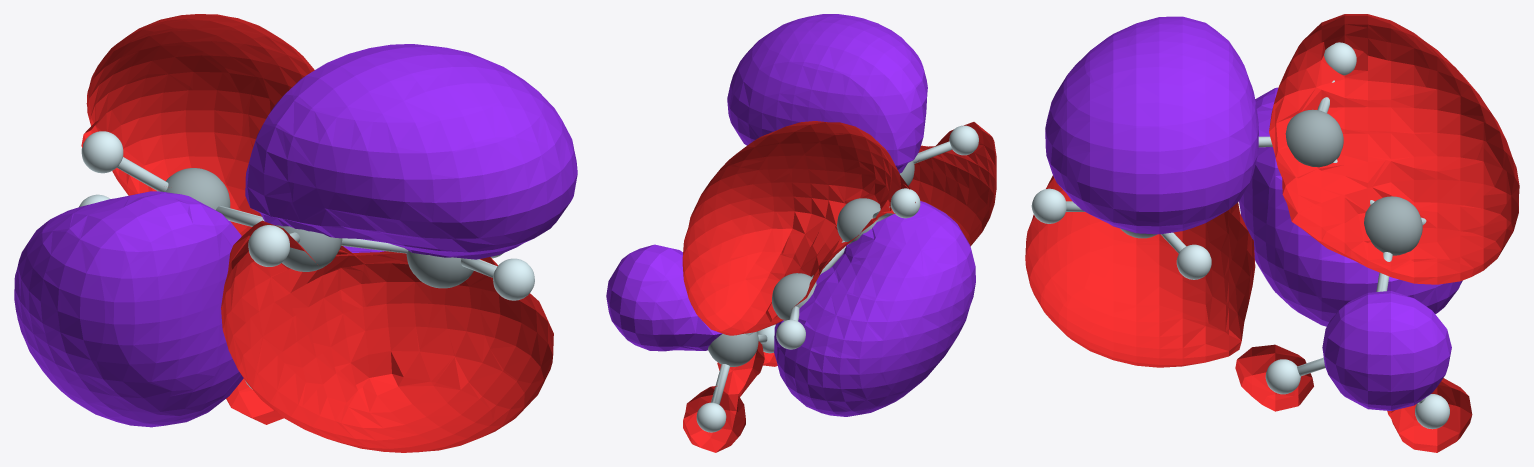
The picture shows the model from 3 angles, left to right: view 1: azimuth 30°, elevation 25°; view 2: azimuth 150°, elevation 25°; view 3: azimuth 270°, elevation 25°; orthographic projection. The views are drawn at different scales.
Visible parts, largest first — view 1: Renderer Node; view 2: Renderer Node; view 3: Renderer Node.
Part boxes in pixels (bbox=[...]): Renderer Node: bbox=[14, 14, 577, 452]; Renderer Node: bbox=[606, 14, 996, 452]; Renderer Node: bbox=[1025, 14, 1519, 452].
Bounding box in the file's own units: 4.98 × 5.07 × 5.6.
